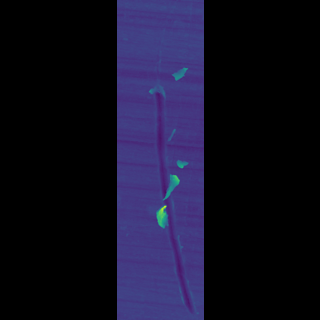Loch: (156, 81, 170, 318), (160, 173, 165, 200), (158, 206, 162, 230), (162, 64, 167, 82), (164, 159, 167, 169)
